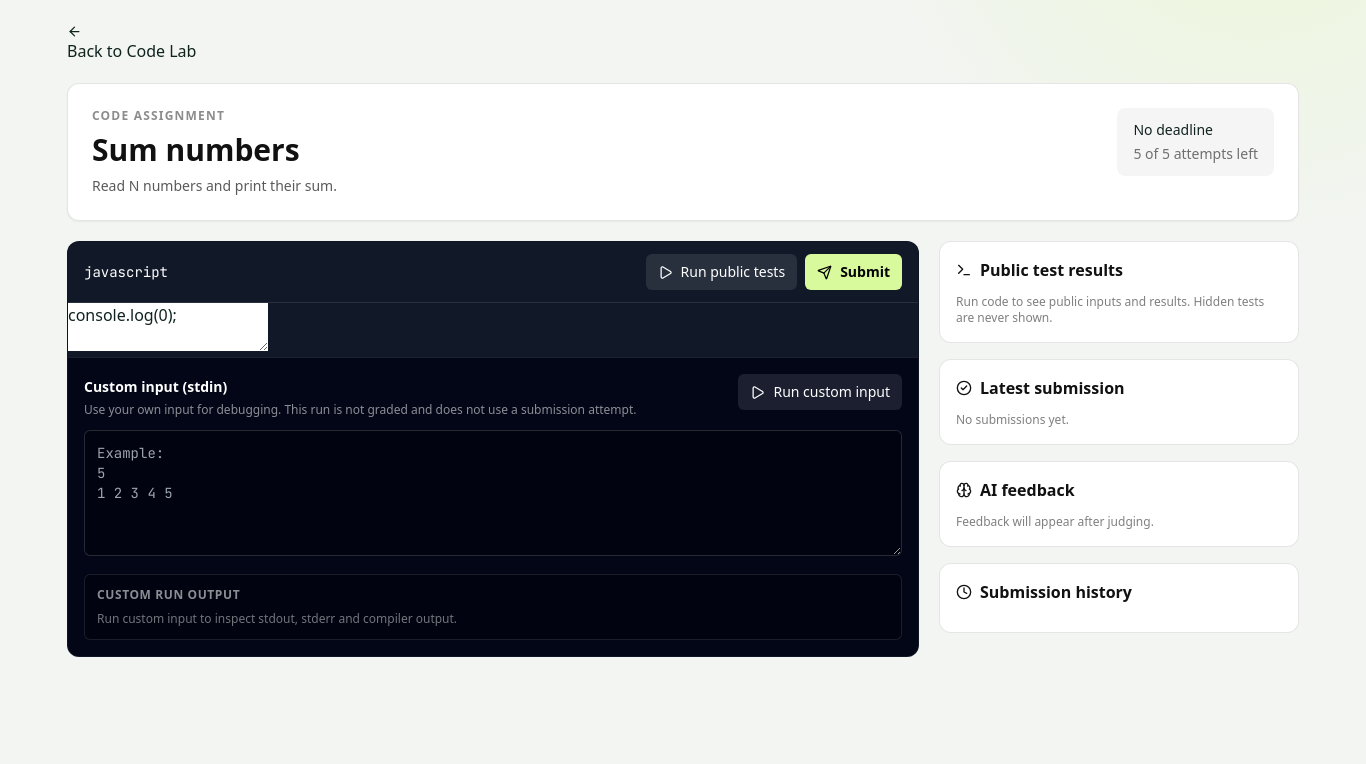
it: AssignmentWorkspace run experience › shows public input and preserves an execution error when actual output is empty
This screenshot has width=1366, height=764.
Expected: the heading "Sum numbers" is shown, x1=92 y1=129 x2=300 y2=170
Click the button "Run public tests" at (721, 272), box x1=646 y1=254 x2=797 y2=290
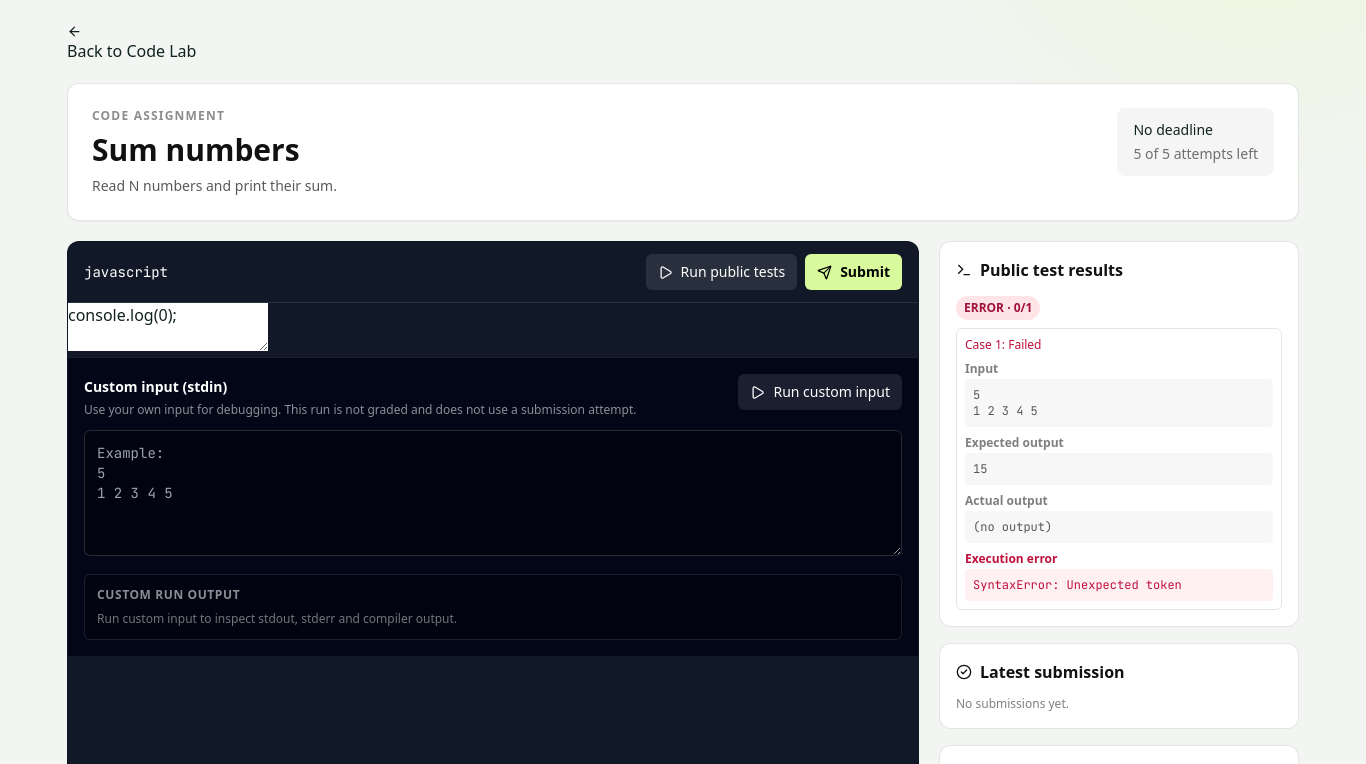
Result: the text "SyntaxError: Unexpected token" is shown at x1=965 y1=569 x2=1273 y2=601
Result: the text named "Public test 1 input" reads "5 1 2 3 4 5" at x1=973 y1=387 x2=1038 y2=419
Result: the text named "Public test 1 actual output" reads "(no output)" at x1=973 y1=519 x2=1052 y2=535
